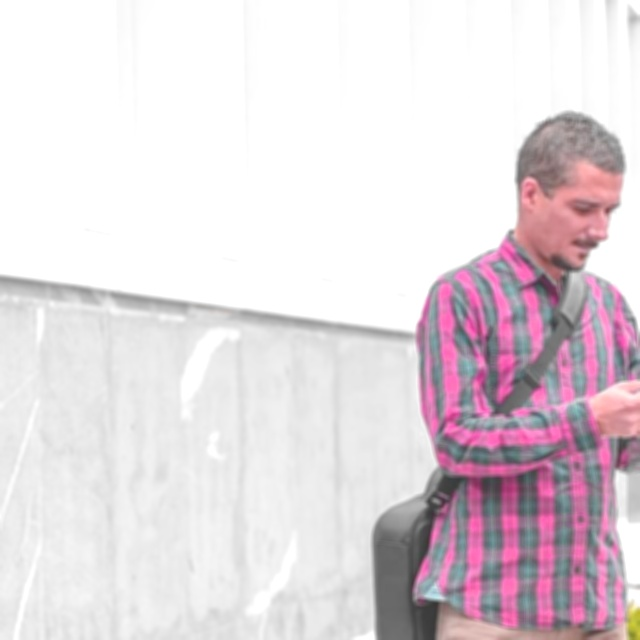Sin_Casco_Mascarrilla: (516, 110, 628, 270)
Sin_Chaleco: (412, 267, 640, 629)
